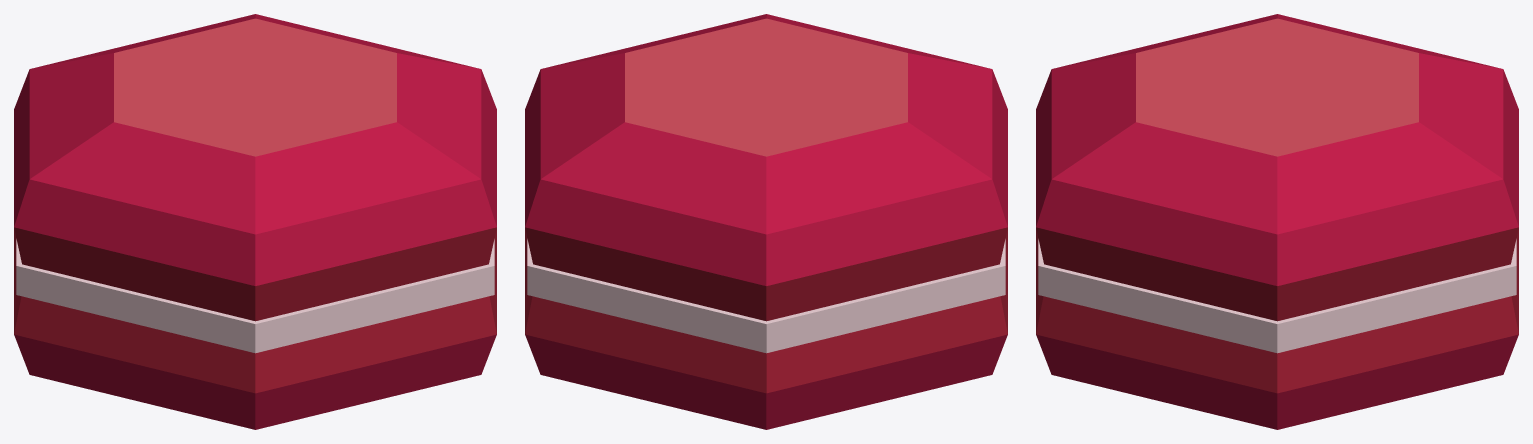
The model's file is TB_CITY_Prop_Macaron_A.FBX.
3 renders of one model, left to right at view 1: azimuth 30°, elevation 25°; view 2: azimuth 150°, elevation 25°; view 3: azimuth 270°, elevation 25°, orthographic.
Parts seen in each view (by area): view 1: TB_CITY_Prop_Macaron_A; view 2: TB_CITY_Prop_Macaron_A; view 3: TB_CITY_Prop_Macaron_A.
Part boxes in pixels (x1=…): TB_CITY_Prop_Macaron_A: x1=14, y1=14, x2=496, y2=429; TB_CITY_Prop_Macaron_A: x1=525, y1=14, x2=1007, y2=429; TB_CITY_Prop_Macaron_A: x1=1036, y1=14, x2=1518, y2=429.
Bounding box in the file's own units: 0.6032 × 0.3207 × 0.5224.
